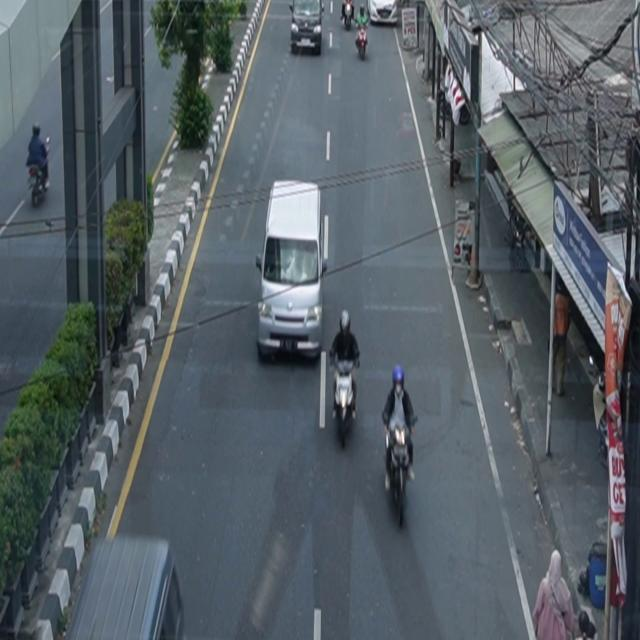car: (290, 1, 325, 56)
truck: (256, 179, 330, 363)
